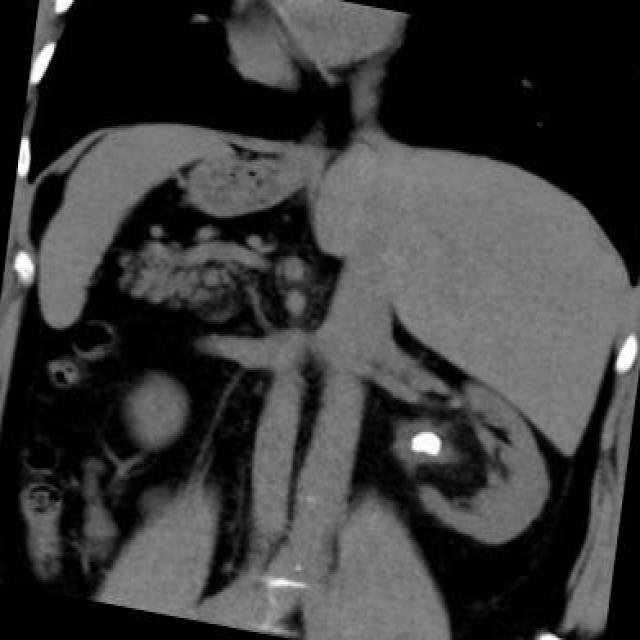Tas_Var: (406, 426, 442, 458), (408, 443, 420, 453)
